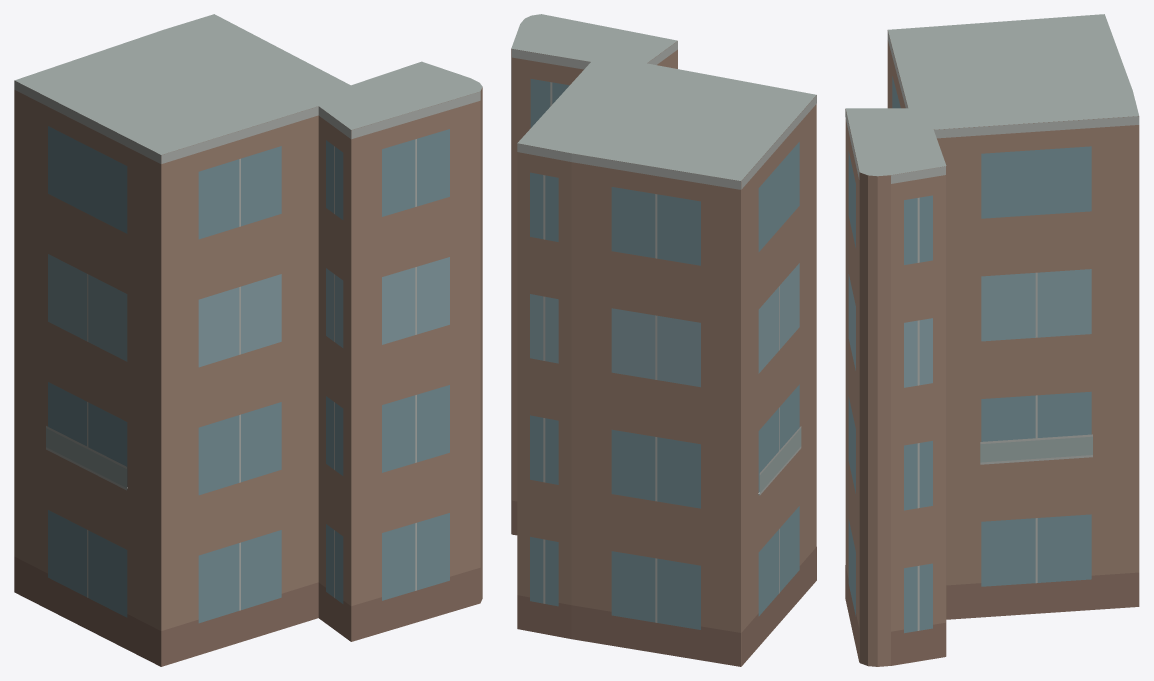
File: survey-upis-32457937.glb
3 views of the same model, side by side, from view 1: azimuth 30°, elevation 25°; view 2: azimuth 150°, elevation 25°; view 3: azimuth 270°, elevation 25° (orthographic). The views are drawn at different scales.
Visible parts, largest first — view 1: survey-upis-32457937.tmp; view 2: survey-upis-32457937.tmp; view 3: survey-upis-32457937.tmp.
Boxes of the visible parts, x1,y1,x2,y2 form: survey-upis-32457937.tmp: [14, 14, 482, 666]; survey-upis-32457937.tmp: [511, 14, 816, 666]; survey-upis-32457937.tmp: [845, 14, 1139, 666].
Size of the model in its own units: 9.57 by 13.5 by 7.33.
